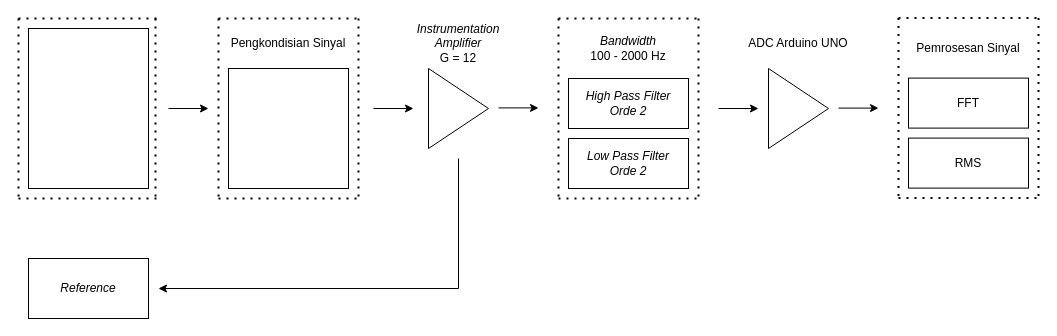
Some shapes in this 1057 by 336 pixel diagram are drawn without their labels. Each missing label, with the centre of its shape:
"Microphone Electret Condenser" belongs at pixel 88 108.
"Rangkaian Bias" belongs at pixel 288 128.
